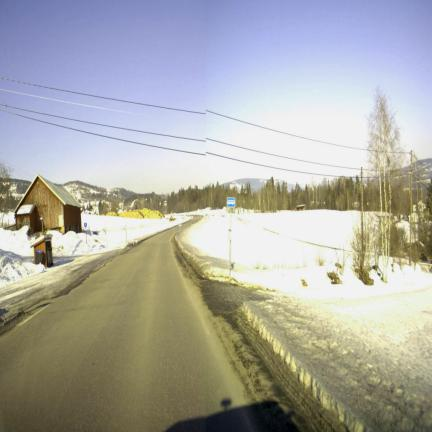Road: (0, 232, 246, 431)
